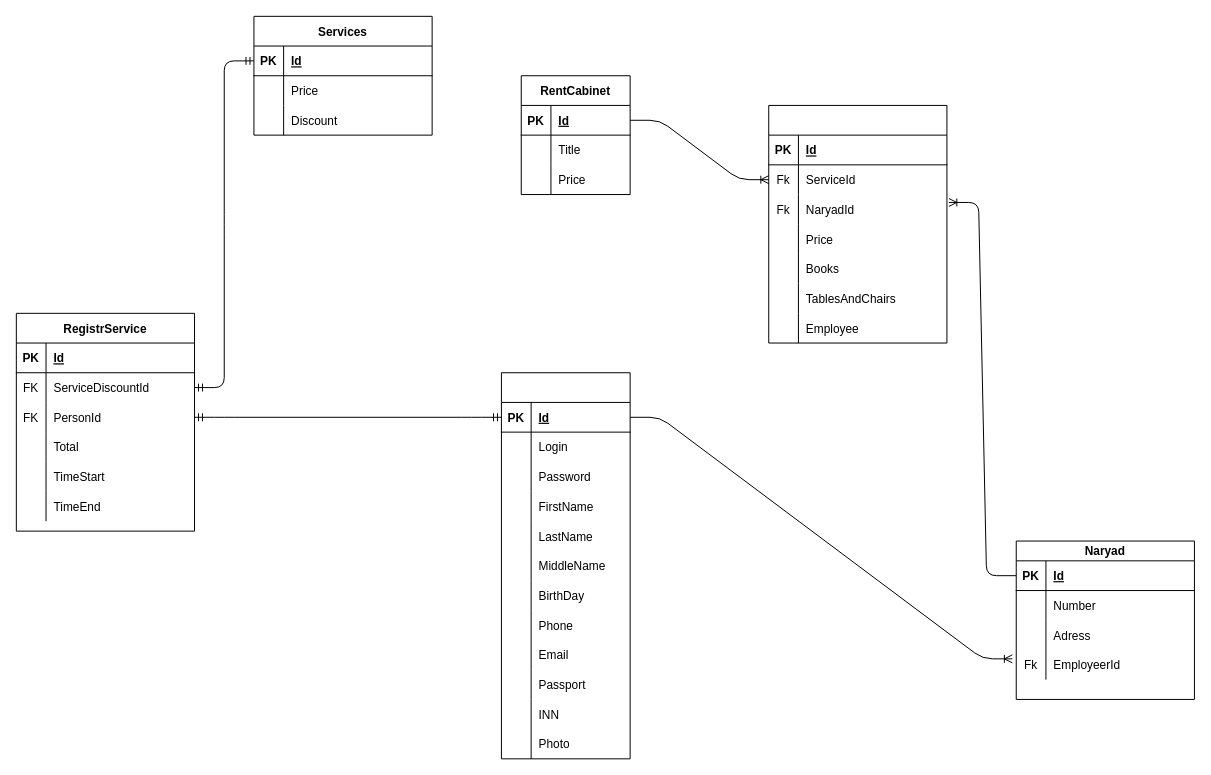
Image size: 1211x775. Some labels were removed from this diagram. The shapes that lost their labels are listed below. From the top down, each one's box as (x1, y1, x2, y2) in pixels, then its label:
(768, 104, 947, 343): Component
(500, 372, 630, 759): Employeers
